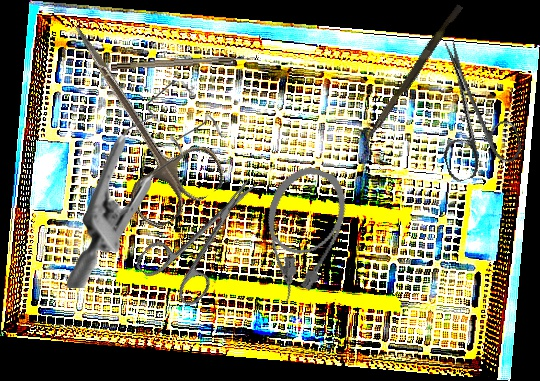Cannula: (240, 158, 358, 312)
Hook Surgical: (111, 55, 256, 70)
Iris Scissors: (32, 3, 233, 234), (132, 158, 283, 314), (410, 29, 527, 185)
Pusher: (361, 1, 464, 150)
Speculum: (67, 78, 222, 291)
